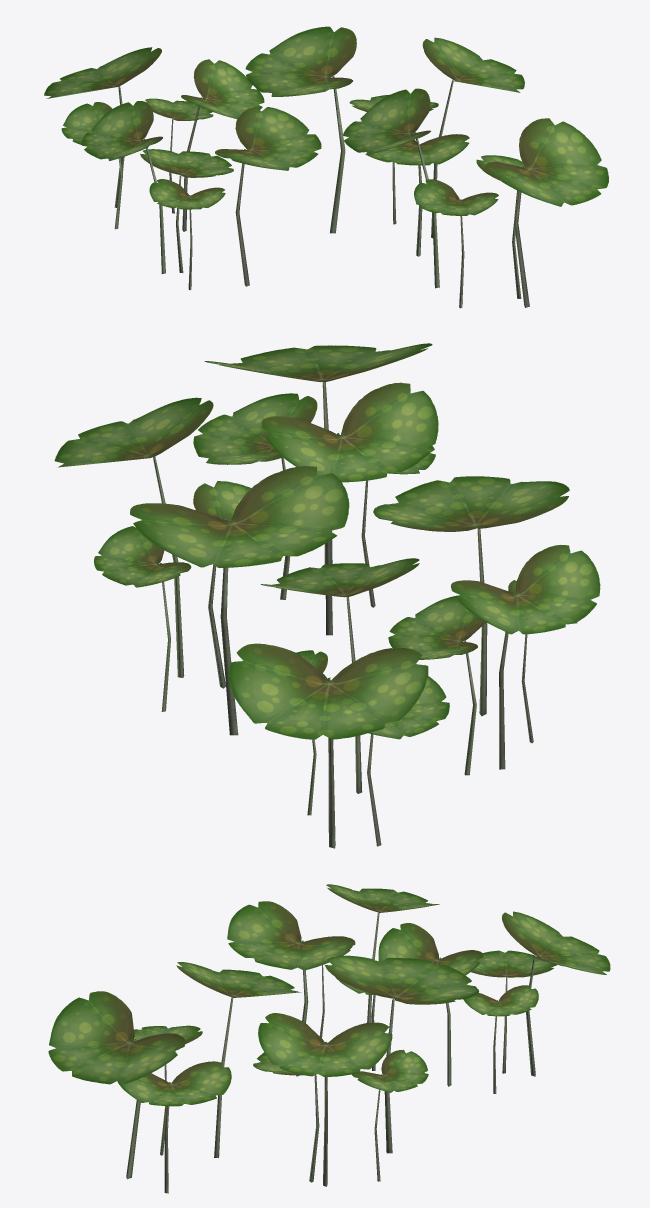
Rendered from tree_c.FBX.
3 renders of one model, top to bottom at view 1: azimuth 30°, elevation 25°; view 2: azimuth 150°, elevation 25°; view 3: azimuth 270°, elevation 25°, orthographic. The views are drawn at different scales.
Parts seen in each view (by area): view 1: tree_c; view 2: tree_c; view 3: tree_c.
Part boxes in pixels (x1,y1,x2,y2): tree_c: (44, 26, 608, 308); tree_c: (54, 343, 600, 848); tree_c: (48, 884, 610, 1193).
Size of the model in its own units: 3.85 by 1.7 by 4.79.
Materials: 1 (1 with a texture image).
